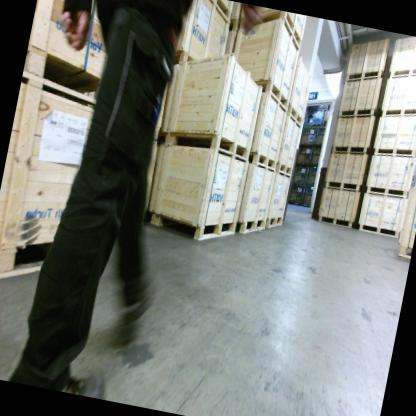pallet: (321, 121, 329, 128)
stillage: (298, 124, 317, 150), (294, 143, 313, 168), (290, 164, 309, 188), (287, 183, 305, 207), (313, 126, 327, 151), (302, 183, 315, 208), (308, 146, 322, 169), (305, 164, 319, 186)
